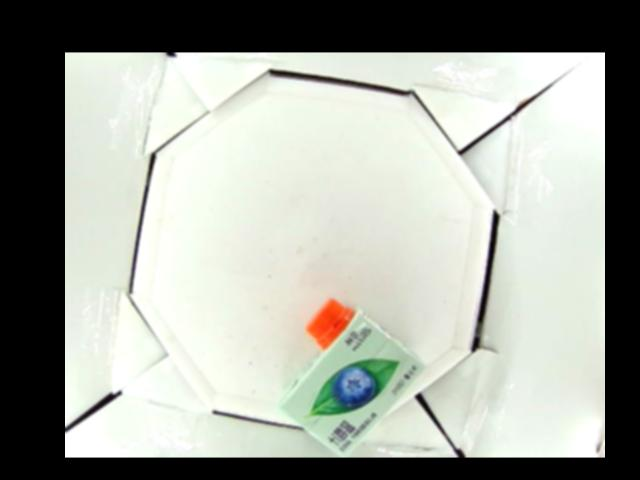Bottle: (278, 297, 419, 457)
